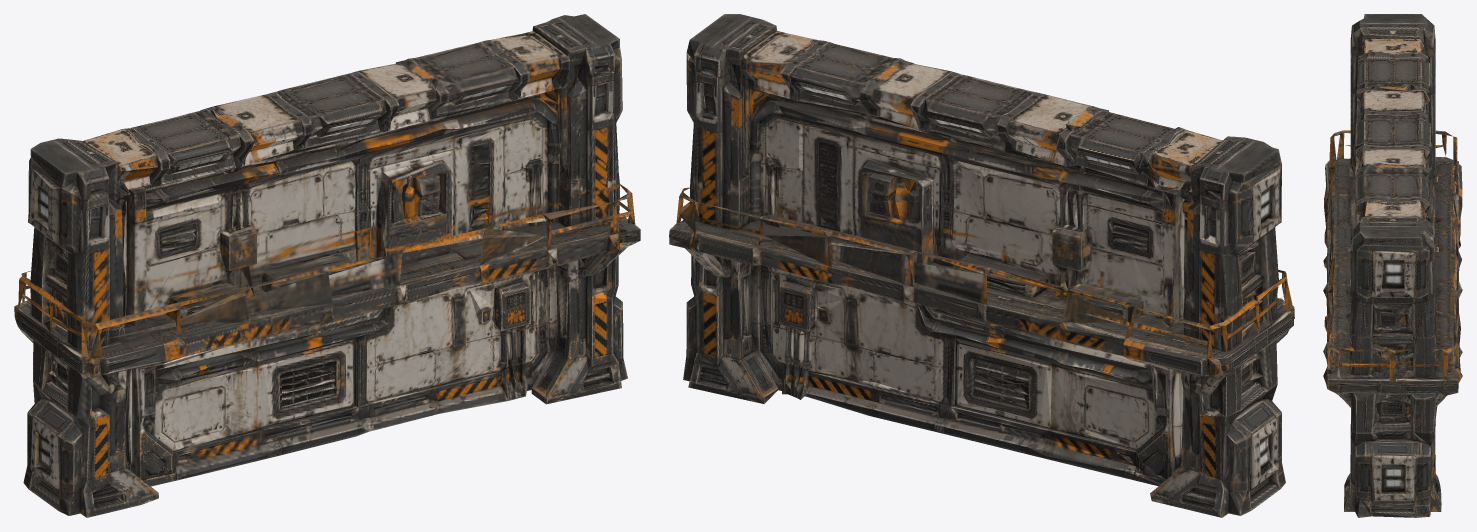
3 renders of one model, left to right at view 1: azimuth 30°, elevation 25°; view 2: azimuth 150°, elevation 25°; view 3: azimuth 270°, elevation 25°, orthographic. The views are drawn at different scales.
Parts seen in each view (by area): view 1: Mesh_0; view 2: Mesh_0; view 3: Mesh_0.
Part boxes in pixels (x1,y1,x2,y2): Mesh_0: [14, 14, 640, 517]; Mesh_0: [669, 14, 1294, 517]; Mesh_0: [1323, 14, 1462, 517].
Bounding box in the file's own units: 1.9 × 1.08 × 0.4889.
1 material, 1 textured.
